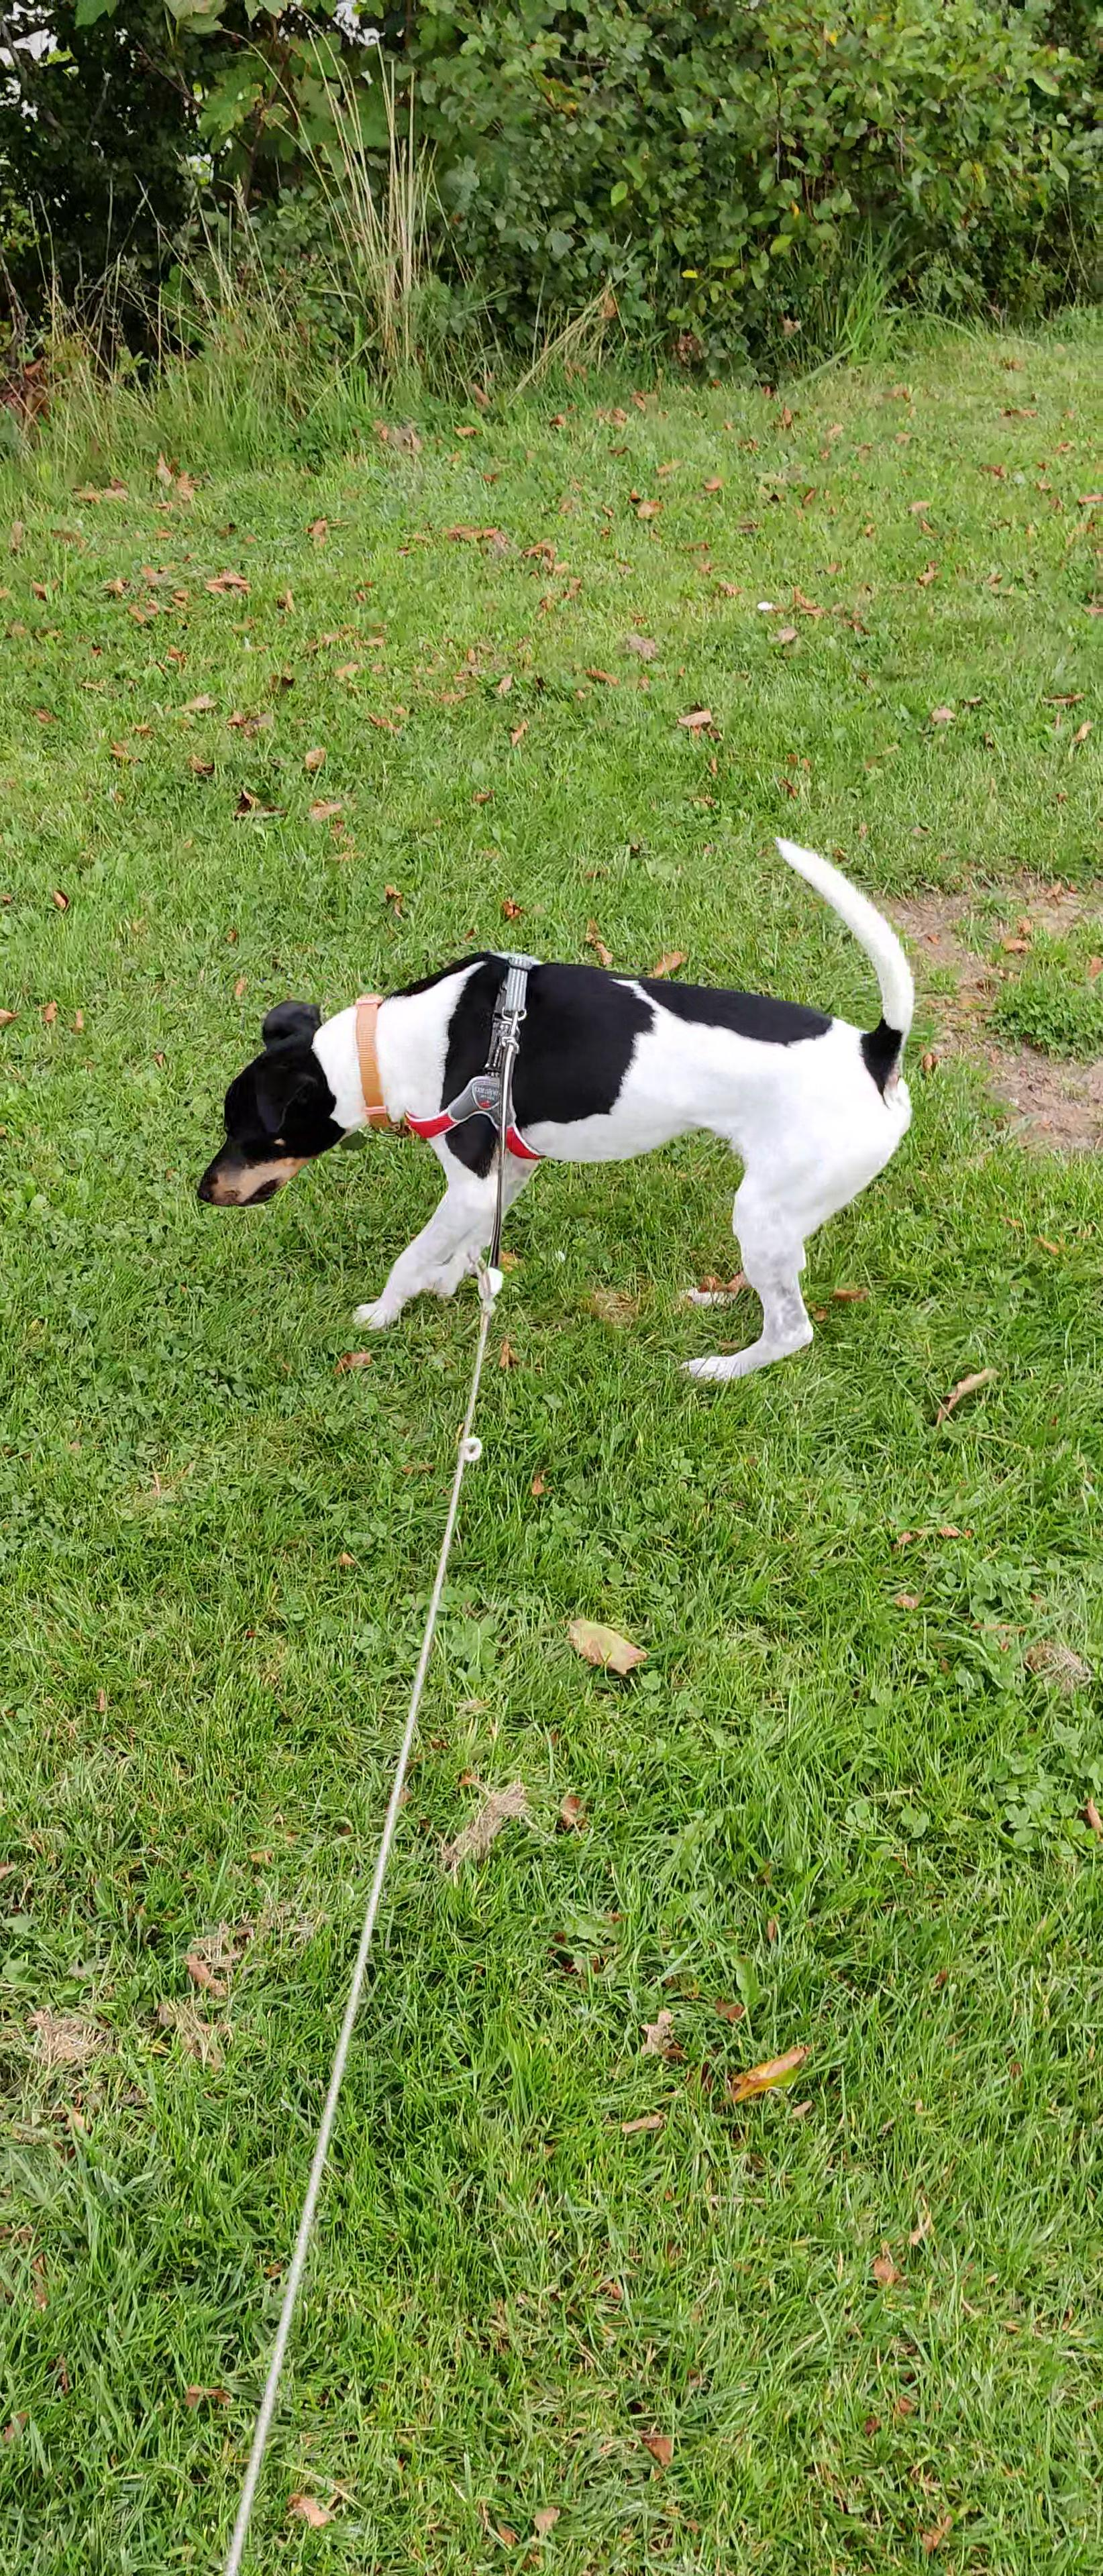Dog: (179, 831, 937, 1382)
